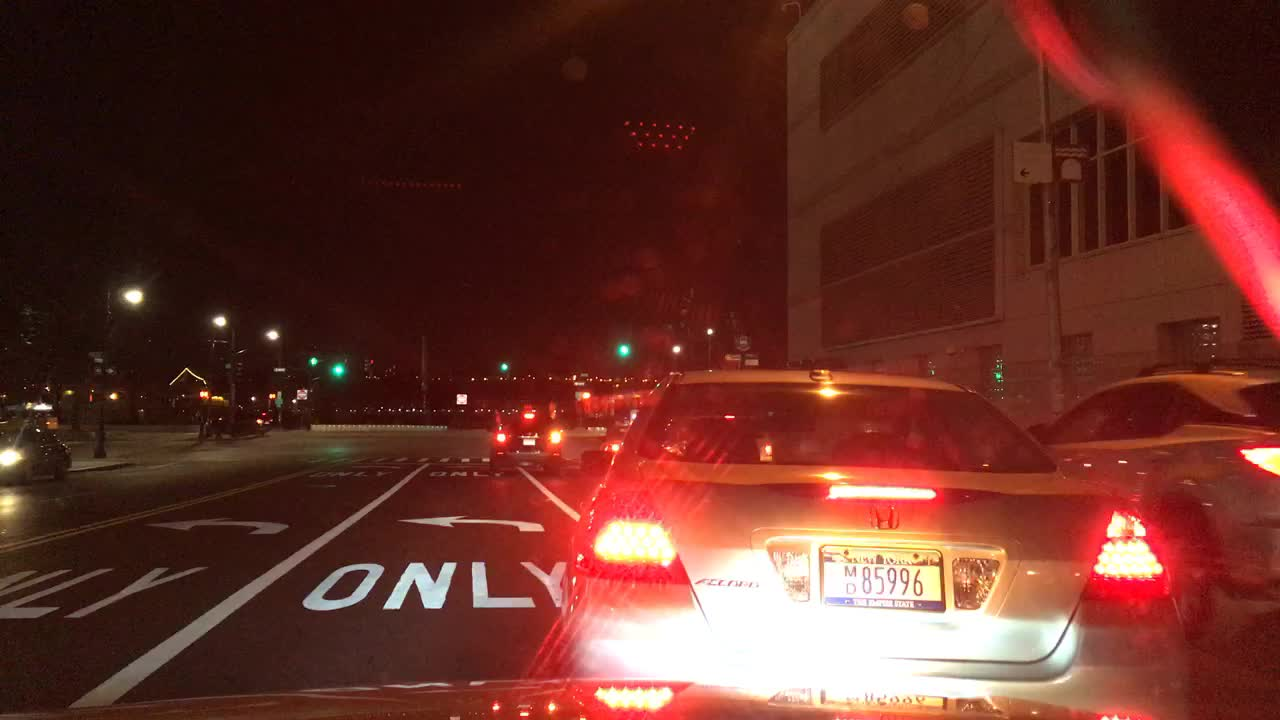car: (556, 365, 1193, 713), (1018, 365, 1279, 650), (486, 395, 567, 472), (0, 416, 73, 487), (199, 407, 276, 437), (597, 436, 633, 456)
traffic light: (328, 360, 346, 376), (615, 341, 633, 355), (304, 353, 321, 367), (105, 390, 120, 404), (84, 390, 100, 403), (195, 388, 213, 399), (496, 360, 511, 373)
traffic sign: (1008, 143, 1085, 180), (733, 329, 753, 349), (722, 353, 742, 369), (742, 355, 762, 369), (274, 389, 285, 410), (453, 390, 468, 405), (294, 387, 308, 399), (270, 364, 286, 373)
